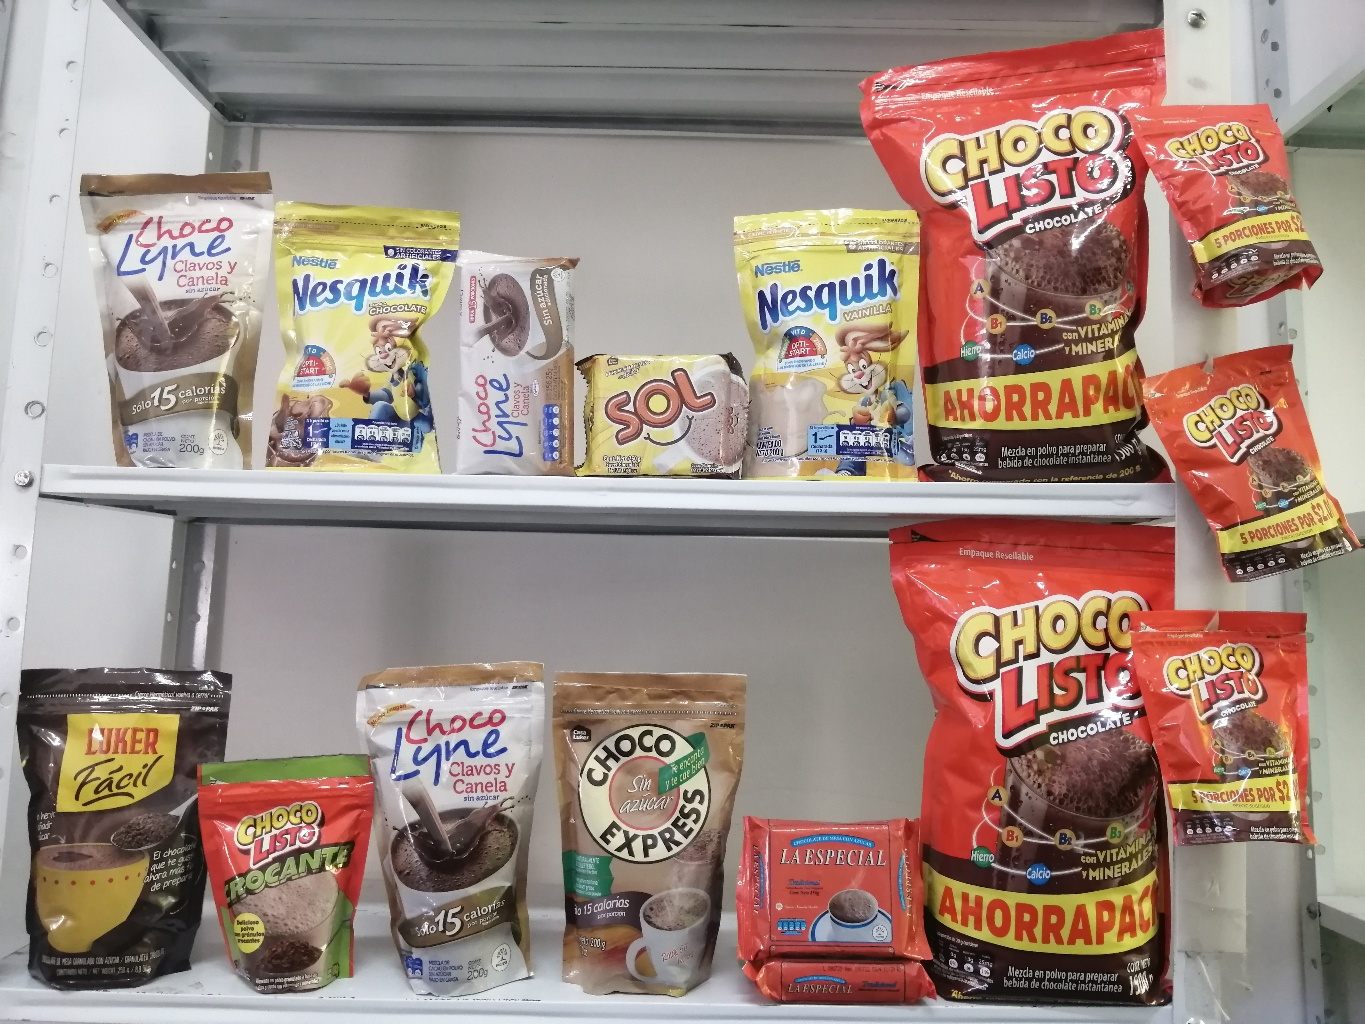COL0170102DYP10000: (190, 735, 386, 1002)
COL0170103DYP1,500: (867, 493, 1210, 1018)
COL0170303DYP20000: (256, 176, 461, 488)
COL0170306DYP20000: (710, 191, 941, 493)
